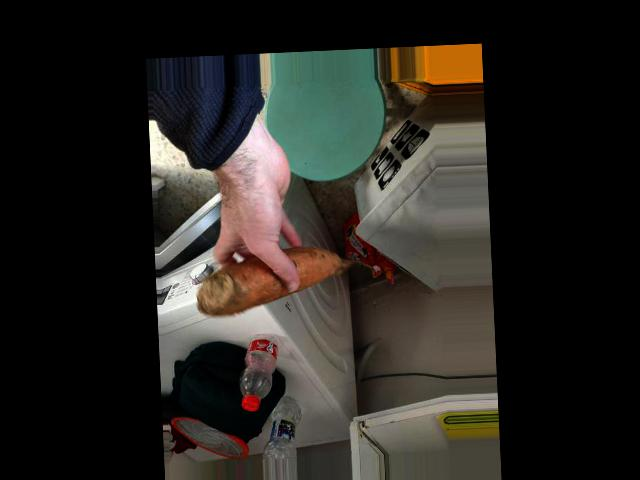sweet_potato: (196, 254, 358, 307)
